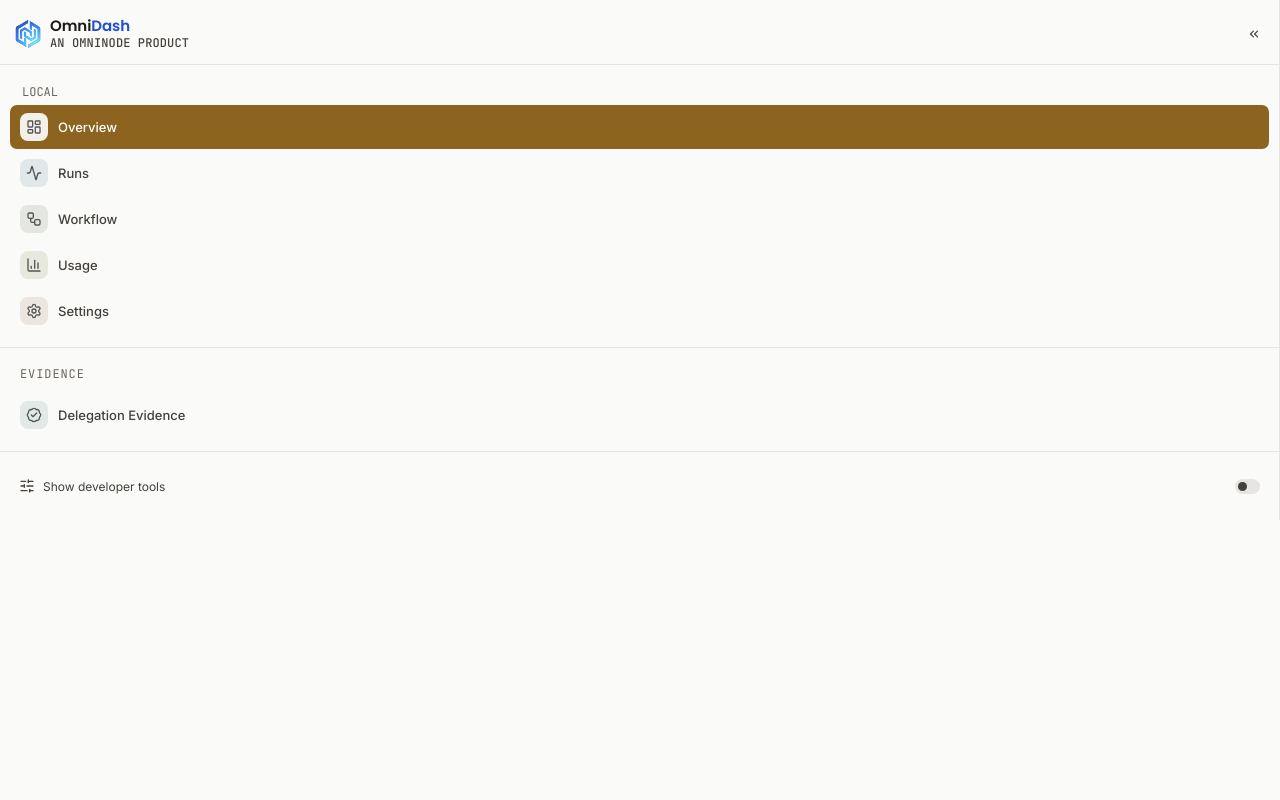
it: Sidebar local pages (FR-3, F23) › keeps evidence visible and advanced pages reachable through the setting
Expected: the link with test id "nav-delegation-evidence" is shown, x1=20 y1=402 x2=185 y2=430
Click the checkbox labelled "Show developer tools" at (104, 486), box x1=10 y1=464 x2=1269 y2=508
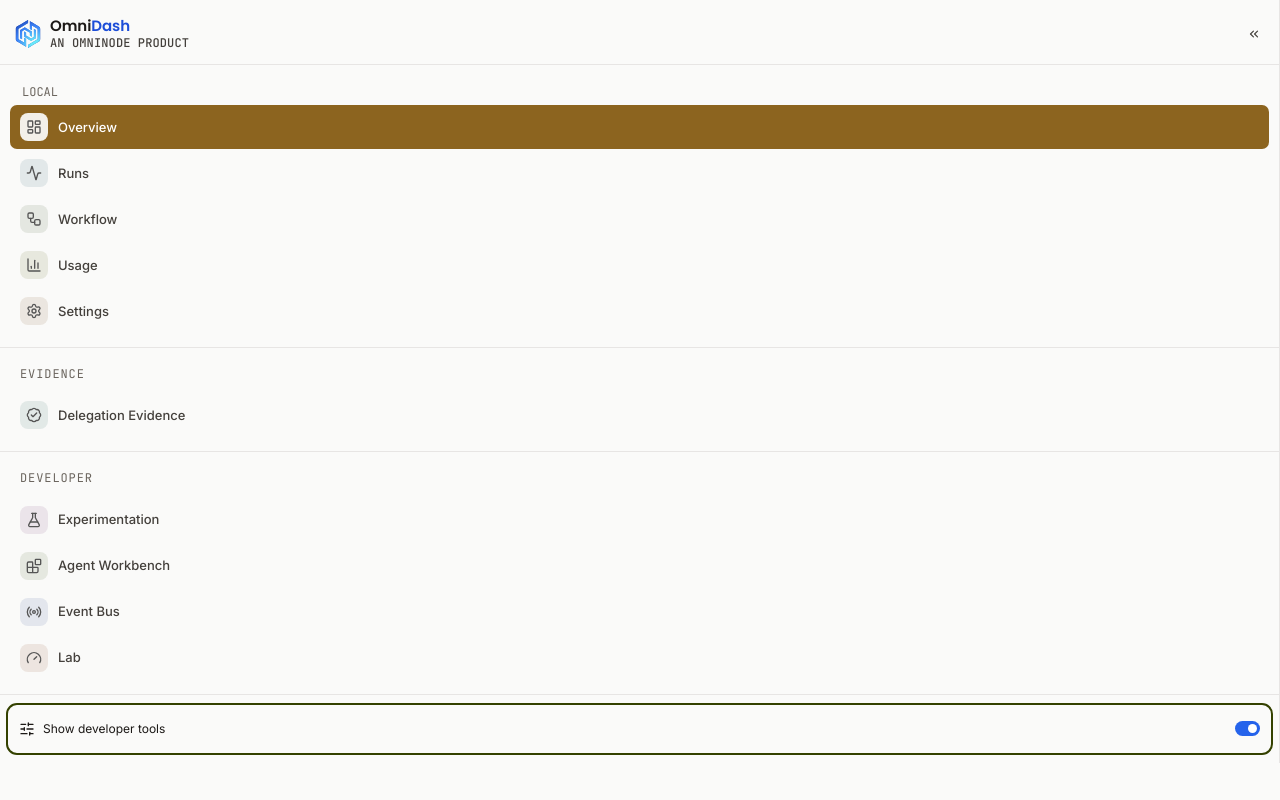
Expected: the link with test id "nav-delegation-evidence" is shown, x1=20 y1=402 x2=185 y2=430
Result: the link with test id "nav-event-bus" is shown at x1=20 y1=598 x2=120 y2=626
